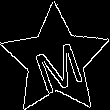M_N: (26, 29, 85, 92)
